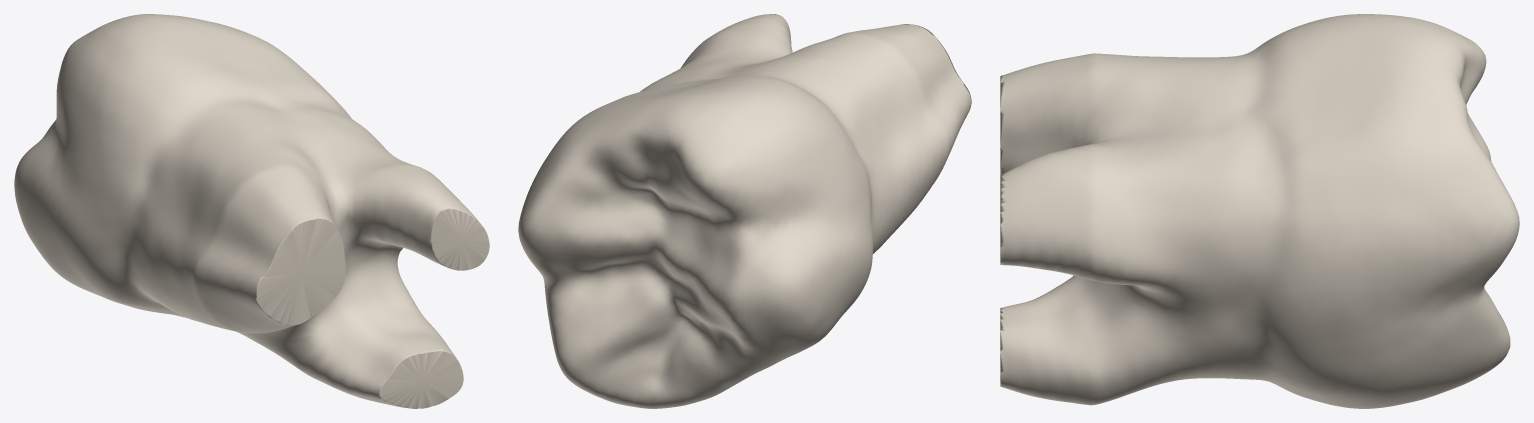
File: r3-prep-bridge-26.glb
The picture shows the model from 3 angles, left to right: view 1: azimuth 30°, elevation 25°; view 2: azimuth 150°, elevation 25°; view 3: azimuth 270°, elevation 25°; orthographic projection. The views are drawn at different scales.
Bounding box in the file's own units: 9.54 × 9.46 × 13.46.
